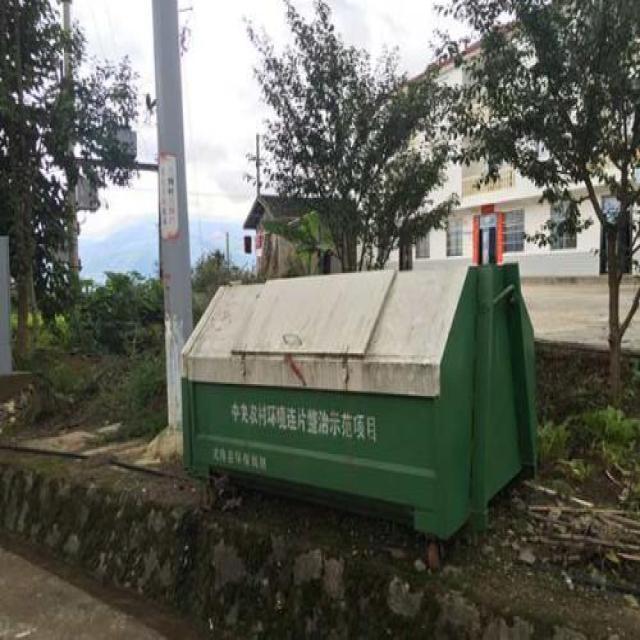garbage_bin: (180, 261, 539, 539)
